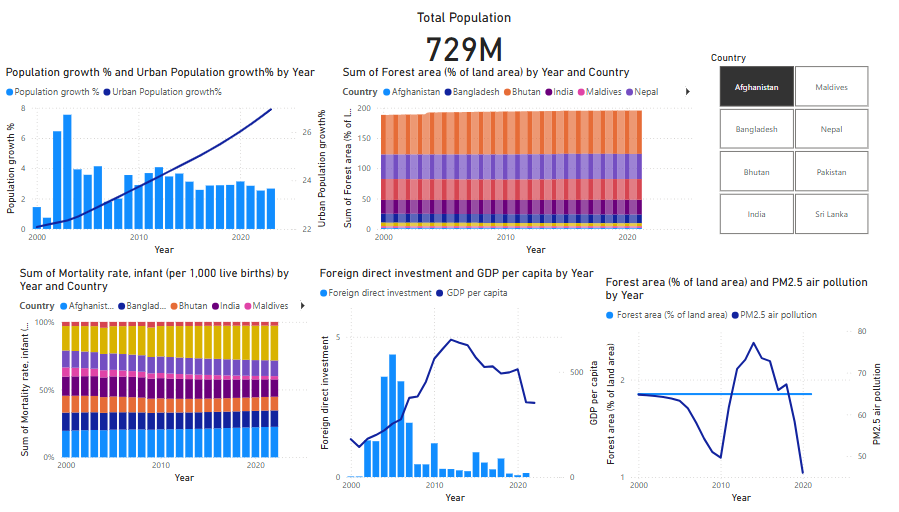

This screenshot's page, from the dashboard's own definition file:
{"tool":"powerbi","page":{"name":"Page 1","canvas":[1280,720],"ordinal":0},"visuals":[{"type":"ribbonChart","fields":{"Category":["countries.Year"],"Series":["countries.Country"],"Y":["Sum(countries.Forest area (% of land area))"]},"box":[488.9,79.4,525.4,281],"z":0},{"type":"lineClusteredColumnComboChart","fields":{"Category":["countries.Year"],"Y2":["Sum(countries.Urban population (% of total population))"],"Y":["Sum(countries.Population growth (annual %))"]},"box":[0,79.4,474.6,281],"z":1000},{"type":"lineStackedColumnComboChart","fields":{"Y":["Sum(economic_data.Foreign direct investment, net inflows (% of GDP))"],"Y2":["Sum(economic_data.GDP per capita )"],"Category":["economic_data.Year"]},"box":[455.6,371.4,414.3,349.2],"z":2000},{"type":"hundredPercentStackedColumnChart","fields":{"Category":["countries.Year"],"Series":["countries.Country"],"Y":["Sum(social_data.Mortality rate, infant (per 1,000 live births))"]},"box":[20.6,371.4,434.9,320.6],"z":3000},{"type":"slicer","fields":{"Values":["countries.Country"]},"box":[1014.3,57.1,265.1,274.6],"z":4000},{"type":"card","title":"Total Population ","fields":{"Values":["Sum(countries.Population, total)"]},"box":[488.9,0,361.9,79.4],"z":5000},{"type":"lineChart","fields":{"Category":["environmental_data.Year"],"Y2":["Sum(environmental_data.PM2.5 air pollution, mean annual exposure (micrograms per cubic meter))"],"Y":["Sum(countries.Forest area (% of land area))"]},"box":[869.8,384.1,409.5,336.5],"z":6000}]}

Visuals, with their boxes in screenshot pixels (x1, y1, x2, y2), scaled from the page's 1280x720 canvas onto the 899x512 screenshot:
ribbonChart - countries.Year x countries.Country: [343,56,712,256]
lineClusteredColumnComboChart - countries.Year x Sum(countries.Urban population (% of total population)): [0,56,333,256]
lineStackedColumnComboChart - Sum(economic_data.Foreign direct investment, net inflows (% of GDP)) x Sum(economic_data.GDP per capita ): [320,264,611,511]
hundredPercentStackedColumnChart - countries.Year x countries.Country: [14,264,320,492]
slicer - countries.Country: [712,41,898,236]
"Total Population " card: [343,0,598,56]
lineChart - environmental_data.Year x Sum(environmental_data.PM2.5 air pollution, mean annual exposure (micrograms per cubic meter)): [611,273,898,511]
